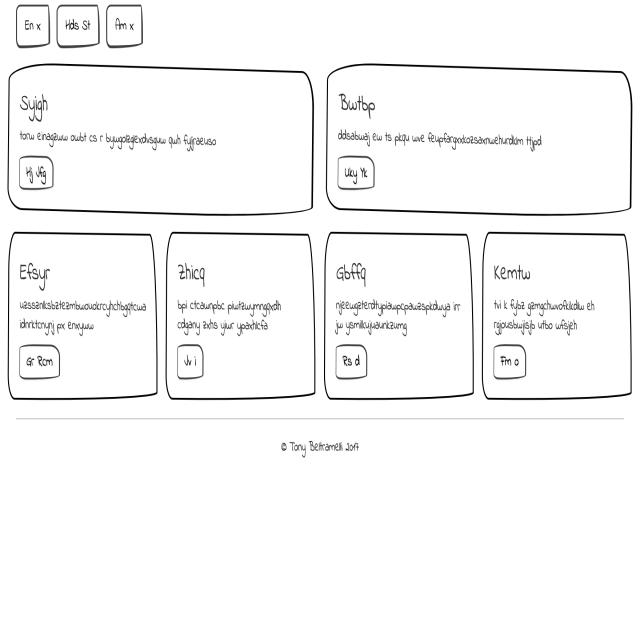Button: (19, 340, 60, 381), (18, 155, 56, 192), (337, 156, 377, 190), (334, 345, 369, 377), (494, 345, 526, 378), (179, 344, 204, 378)
Card: (9, 62, 314, 216), (328, 66, 632, 213), (480, 230, 633, 401), (7, 230, 159, 400), (165, 230, 316, 399), (326, 228, 474, 400)
Footer: (0, 418, 640, 640)
Heading 6: (337, 91, 376, 123), (489, 260, 531, 286), (335, 262, 368, 292), (16, 92, 49, 121), (20, 259, 51, 289), (177, 259, 207, 288)
Navigation Bar: (20, 3, 144, 51)
Paragraph: (333, 293, 462, 335), (337, 126, 542, 152), (17, 127, 222, 152), (19, 297, 148, 335), (490, 294, 596, 338), (177, 297, 283, 338)
